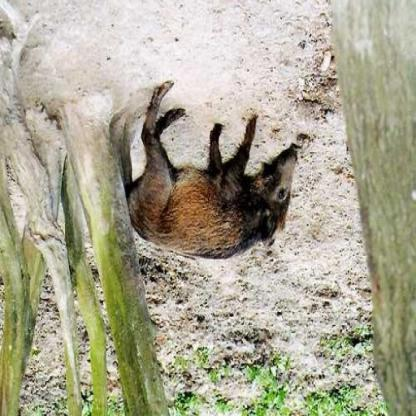boar: (125, 97, 340, 267)
